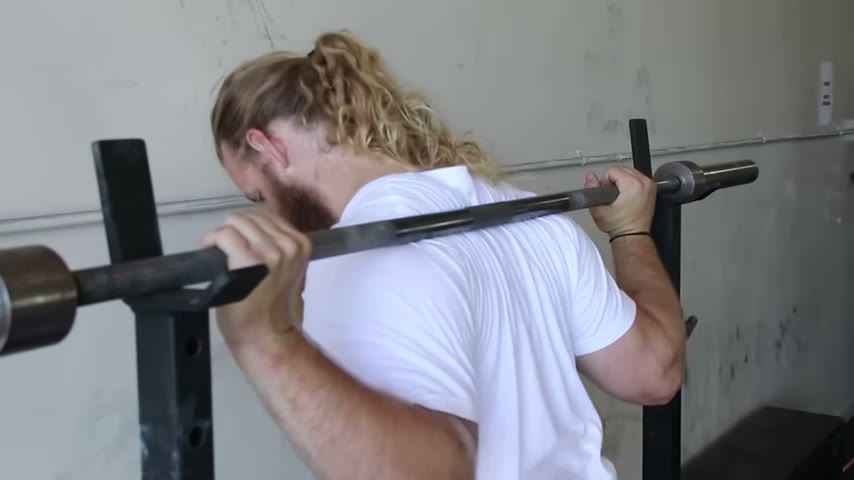barbell_plate_side: (148, 110, 272, 374)
